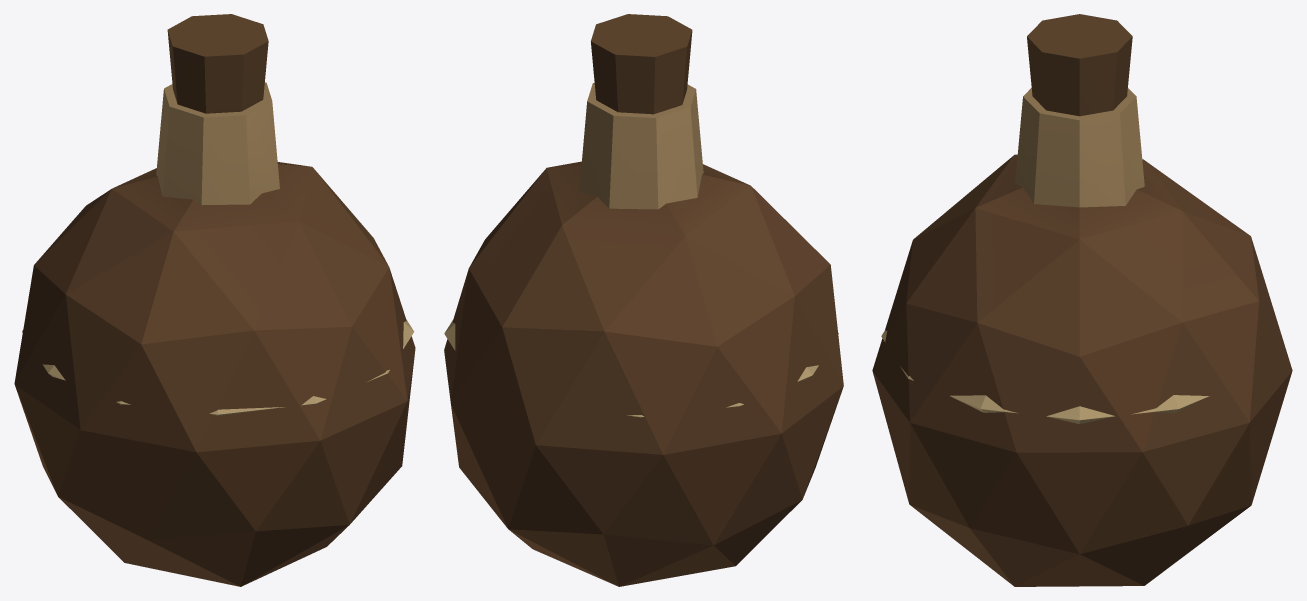
File: Flask.fbx
3 views of the same model, side by side, from view 1: azimuth 30°, elevation 25°; view 2: azimuth 150°, elevation 25°; view 3: azimuth 270°, elevation 25° (orthographic).
Parts seen in each view (by area): view 1: Flask; view 2: Flask; view 3: Flask.
Part boxes in pixels (x1,y1,x2,y2): Flask: (14,14,415,586); Flask: (444,14,843,586); Flask: (872,14,1292,586).
Bounding box in the file's own units: 0.211 × 0.3161 × 0.2222.
